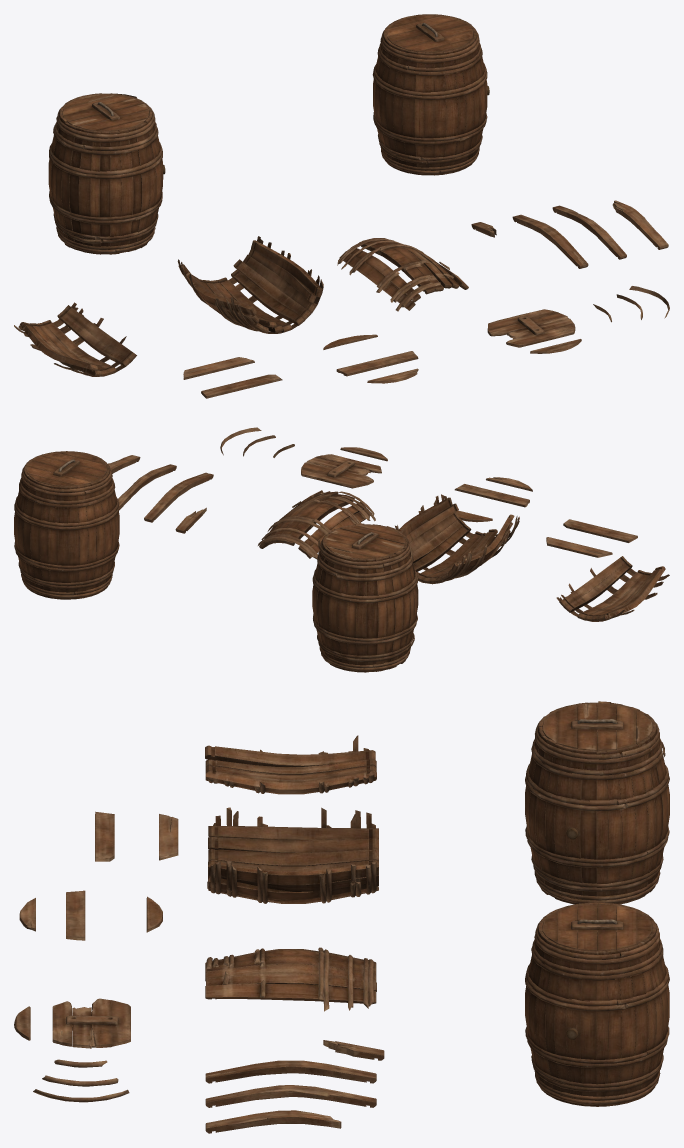
The model's file is wooden_barrels_01.gltf.
3 renders of one model, top to bottom at view 1: azimuth 30°, elevation 25°; view 2: azimuth 150°, elevation 25°; view 3: azimuth 270°, elevation 25°, orthographic. The views are drawn at different scales.
Size of the model in its own units: 4.44 by 0.9567 by 3.34.
Materials: 3 (3 with a texture image).
